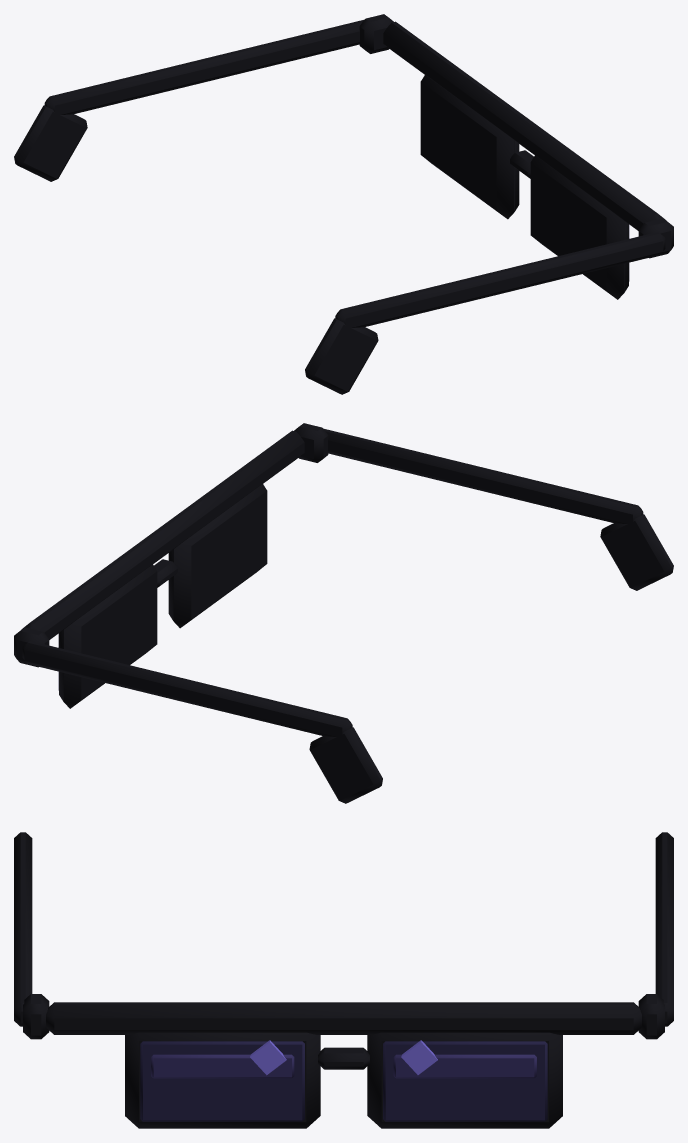
File: hat-sunglasses.glb
The picture shows the model from 3 angles, top to bottom: view 1: azimuth 30°, elevation 25°; view 2: azimuth 150°, elevation 25°; view 3: azimuth 270°, elevation 25°; orthographic projection. The views are drawn at different scales.
Parts seen in each view (by area): view 1: Hat; view 2: Hat; view 3: Hat.
Boxes of the visible parts, <box> form: Hat: <box>14,14,673,394</box>; Hat: <box>14,423,673,803</box>; Hat: <box>14,832,673,1128</box>.
Bounding box in the file's own units: 0.3728 × 0.106 × 0.506.
